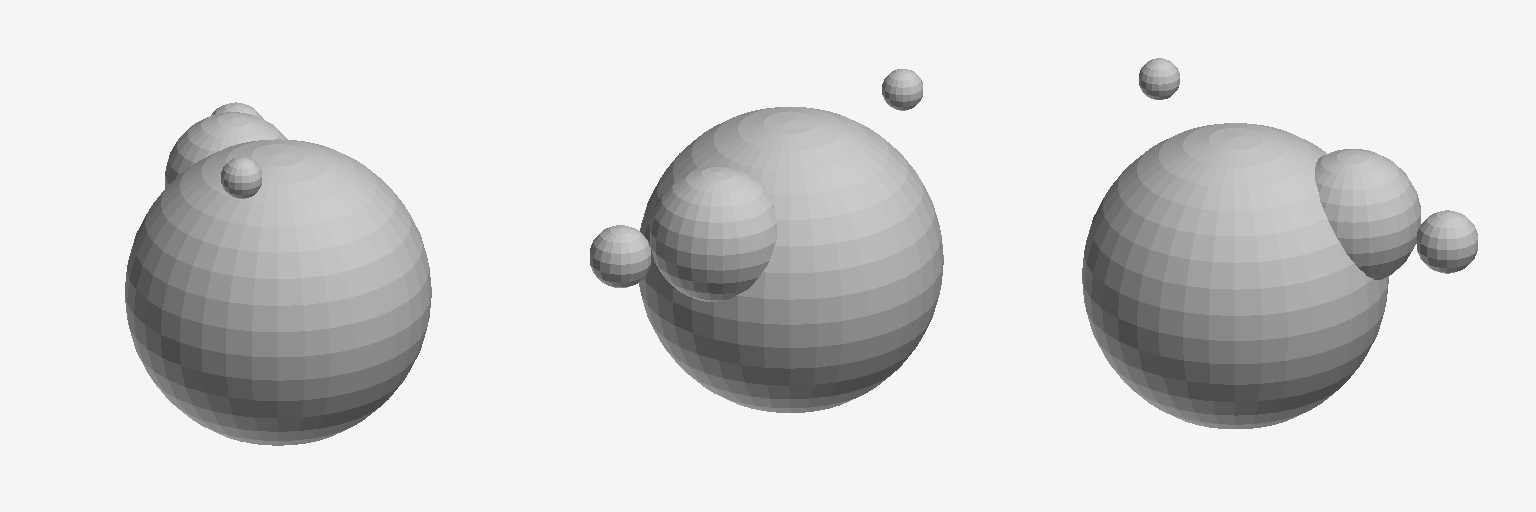
The model's file is BUBBLE.obj.
The picture shows the model from 3 angles: view 1: azimuth 30°, elevation 25°; view 2: azimuth 150°, elevation 25°; view 3: azimuth 270°, elevation 25°; orthographic projection.
Visible parts, largest first — view 1: Sphère.3; view 2: Sphère.3; view 3: Sphère.3.
Part boxes in pixels (bbox=[...]): Sphère.3: bbox=[125, 102, 431, 445]; Sphère.3: bbox=[590, 69, 943, 412]; Sphère.3: bbox=[1082, 58, 1477, 428].
Size of the model in its own units: 58 by 66.43 by 74.8.